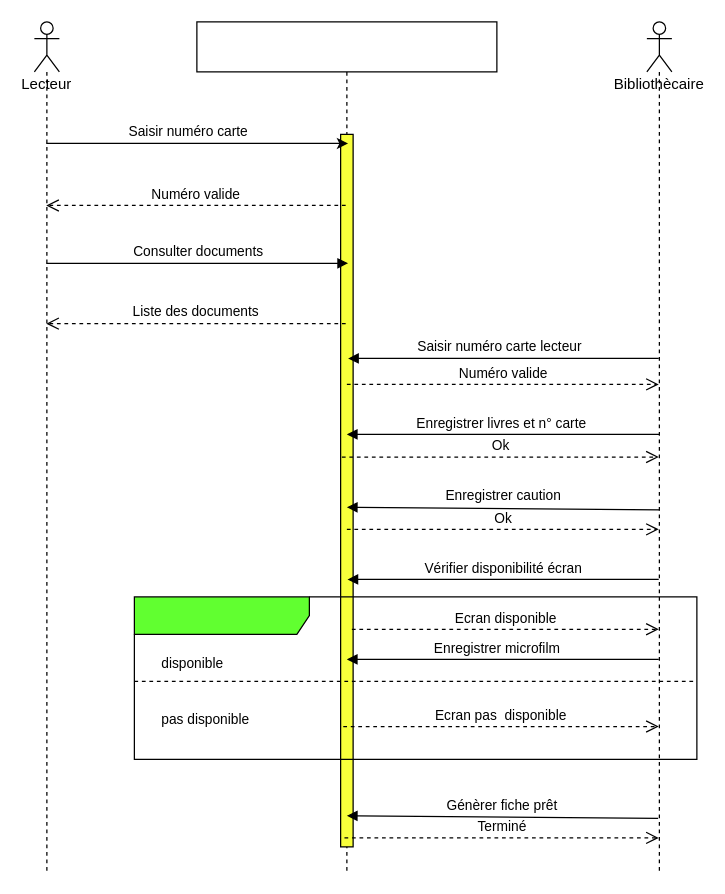
The diagram is 725 pixels wide and 894 high, and some of its shapes have lost their labels. The shapes that lost their labels are listed below. From the top down, each one's box as (x1, y1, x2, y2) in pixels, then its label:
(196, 21, 497, 872): Système Gestion de la Bibliothèque
(133, 596, 697, 759): Alternatif
